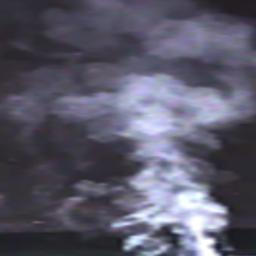smoke: (3, 0, 255, 255)
